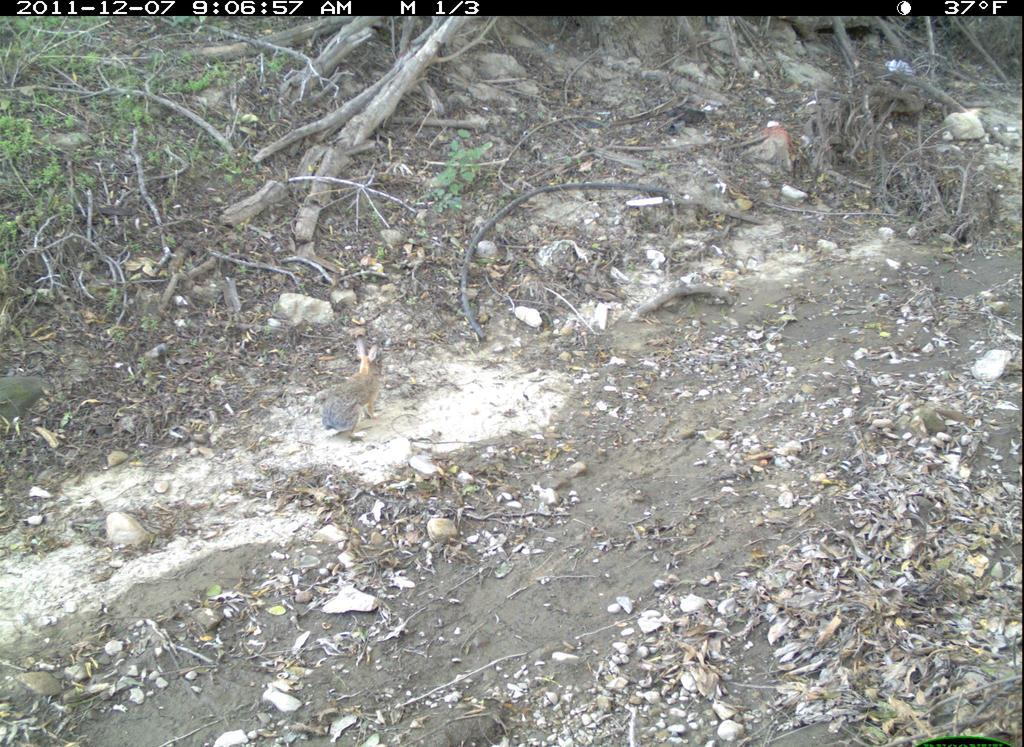rabbit: (306, 337, 401, 449)
